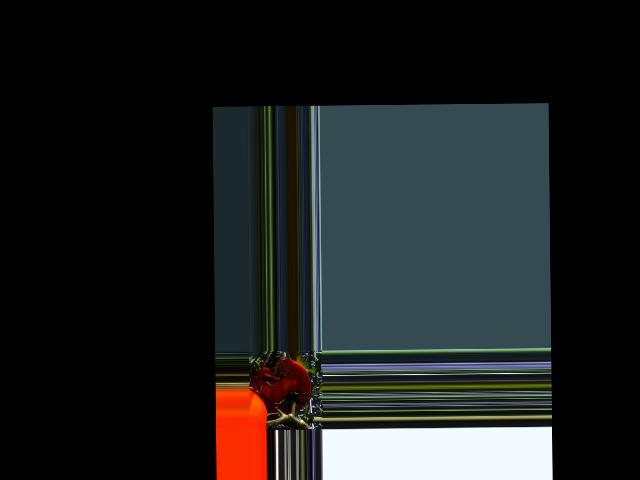tomato: (250, 357, 311, 415)
